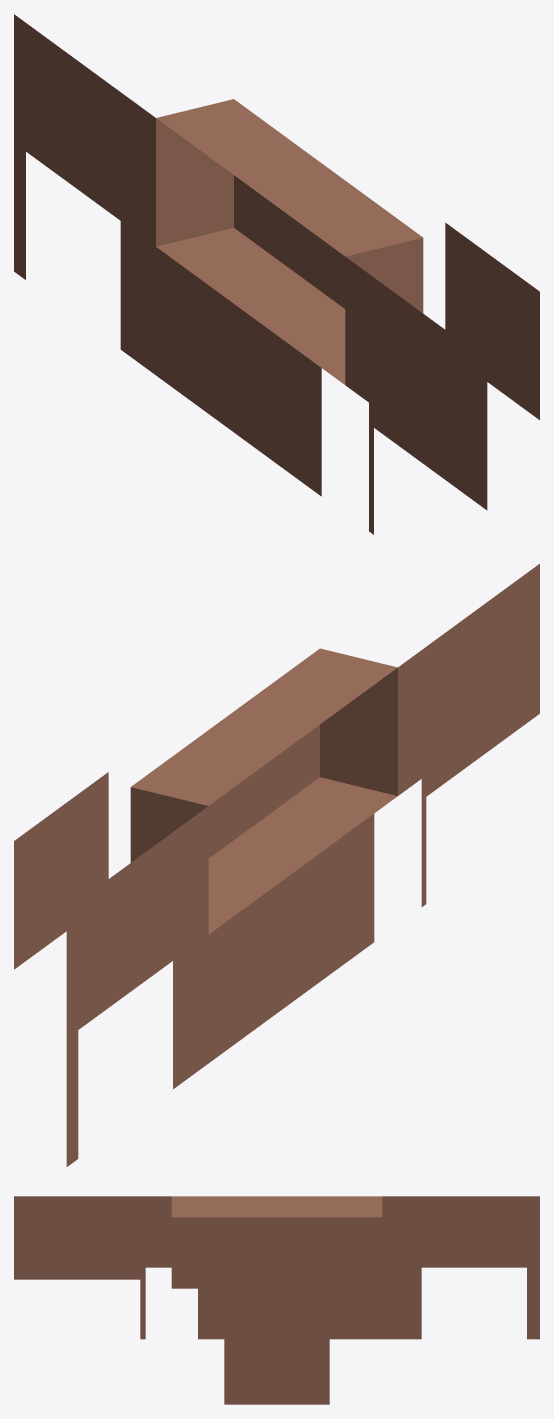
The model's file is SM_geo_Foyer.fbx.
3 renders of one model, top to bottom at view 1: azimuth 30°, elevation 25°; view 2: azimuth 150°, elevation 25°; view 3: azimuth 270°, elevation 25°, orthographic. The views are drawn at different scales.
Parts seen in each view (by area): view 1: Foyer_BackWall, UsefulWallPiece; view 2: Foyer_BackWall, UsefulWallPiece; view 3: Foyer_BackWall, UsefulWallPiece.
Part boxes in pixels (bbox=[...]): Foyer_BackWall: bbox=[14, 14, 487, 534]; UsefulWallPiece: bbox=[445, 222, 539, 419]; Foyer_BackWall: bbox=[66, 564, 539, 1166]; UsefulWallPiece: bbox=[14, 772, 108, 969]; Foyer_BackWall: bbox=[14, 1196, 539, 1339]; UsefulWallPiece: bbox=[224, 1333, 329, 1404].
Bounding box in the file's own units: 590 × 2000 × 600.
